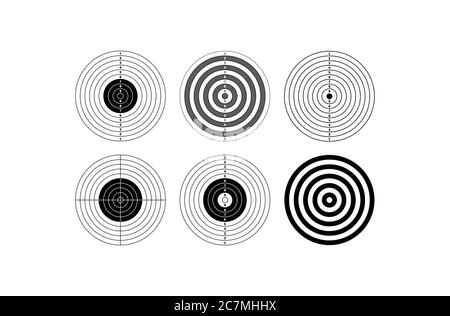target: (63, 40, 173, 147), (66, 150, 172, 254), (282, 39, 382, 147), (175, 149, 276, 252), (179, 41, 275, 145), (280, 152, 380, 249)
